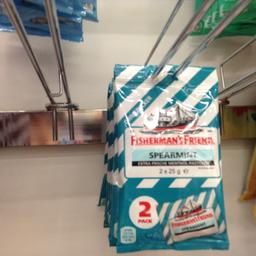candy: (114, 64, 224, 253)
